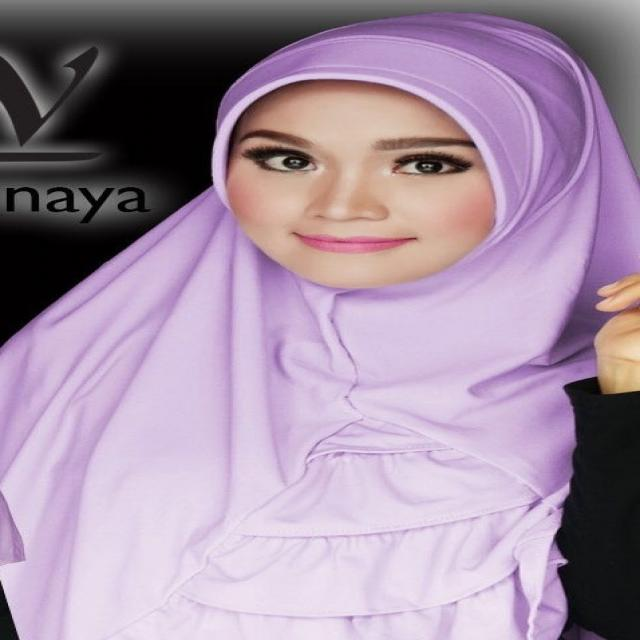head: (210, 8, 598, 300)
